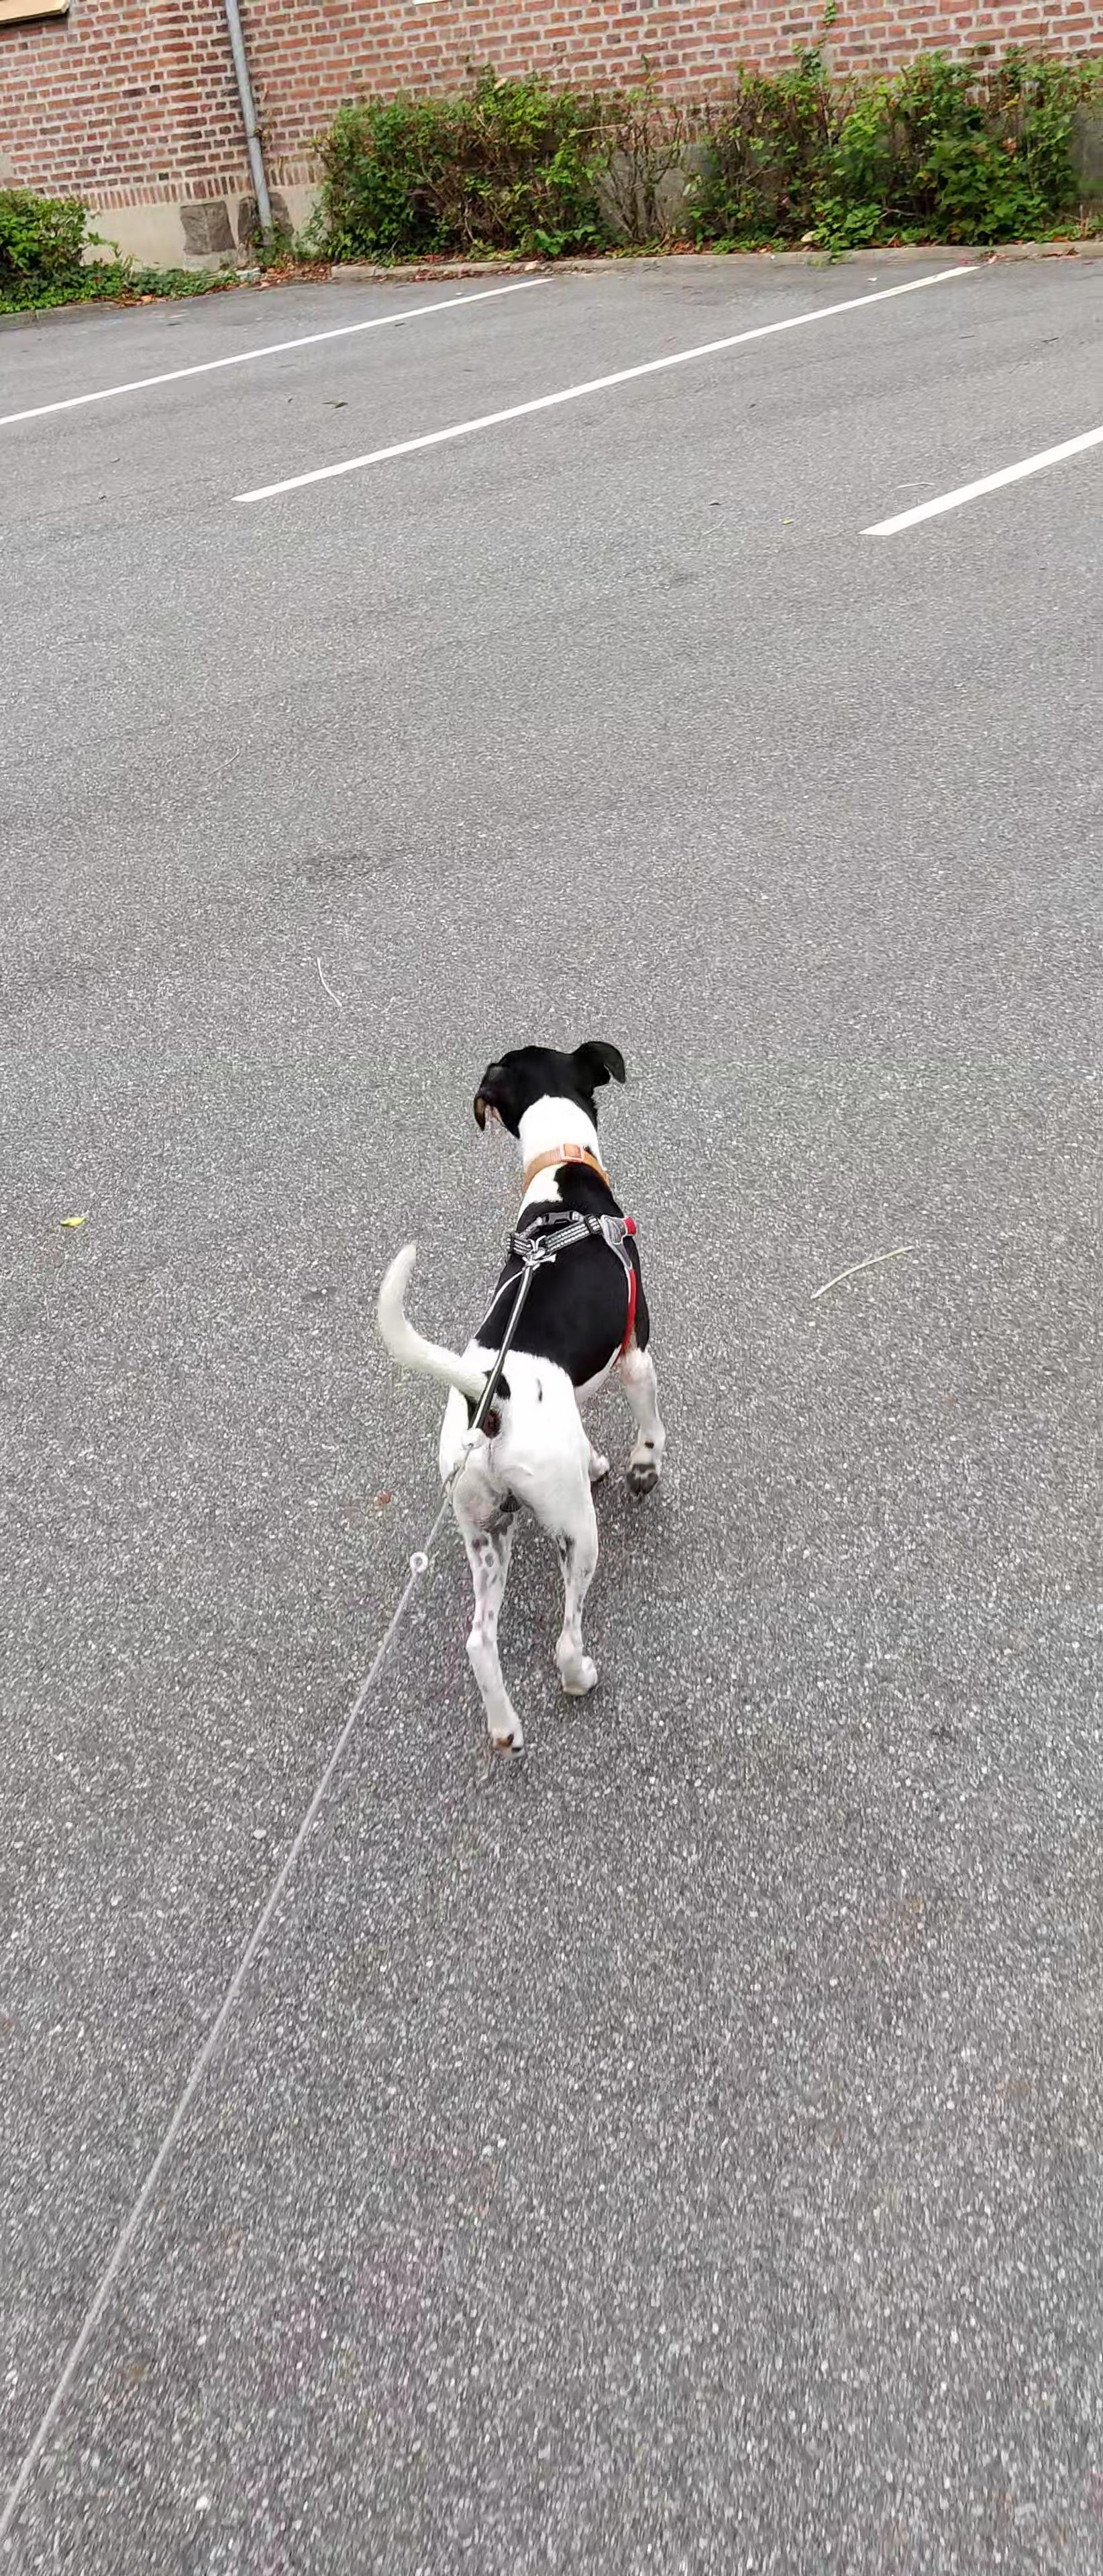Dog: (362, 1019, 682, 1764)
